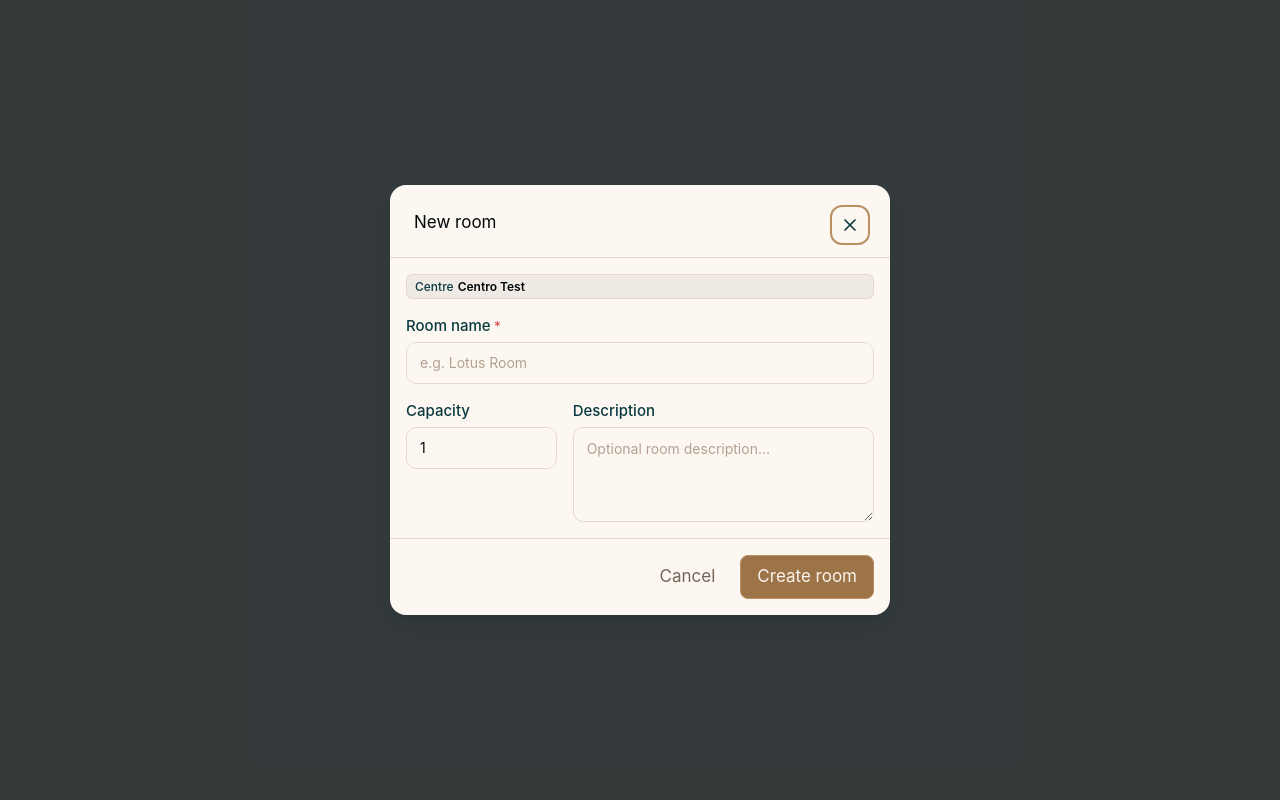
Test: SalaModal — validation › shows error banner when nombre is empty
// Leave nombre empty — capacidad has default 1
Click the button "Create room". click: {"x": 807, "y": 577}
box: [740, 555, 874, 599]
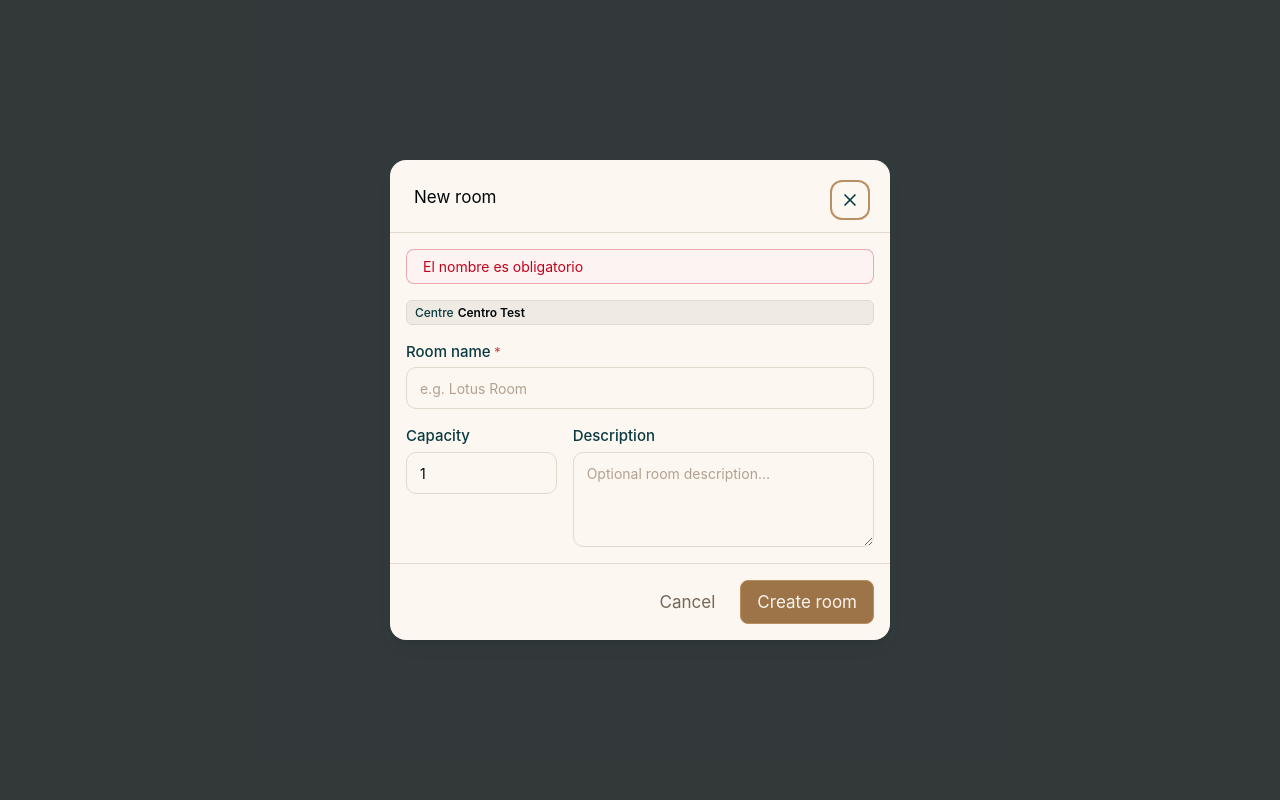
Expected: the message "El nombre es obligatorio" is shown, [406, 249, 874, 284]
